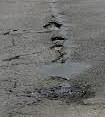crack: (3, 51, 26, 70)
pothole: (33, 72, 100, 109), (42, 36, 82, 67), (40, 13, 70, 34), (2, 75, 19, 102), (3, 25, 22, 43)
